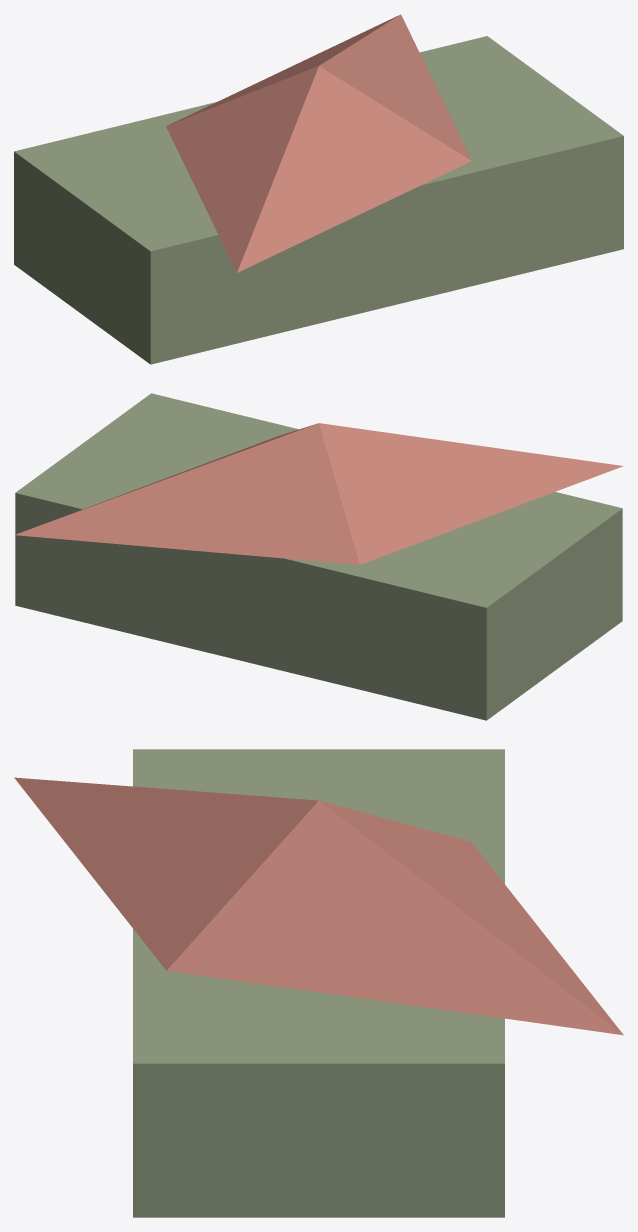
Rendered from barracks.glb.
The picture shows the model from 3 angles, top to bottom: view 1: azimuth 30°, elevation 25°; view 2: azimuth 150°, elevation 25°; view 3: azimuth 270°, elevation 25°; orthographic projection. The views are drawn at different scales.
Parts seen in each view (by area): view 1: Barracks; view 2: Barracks; view 3: Barracks.
Part boxes in pixels (x1,y1,x2,y2): Barracks: (14, 14, 623, 364); Barracks: (14, 393, 623, 720); Barracks: (14, 749, 623, 1217).
Bounding box in the file's own units: 14 × 5.4 × 11.48.
